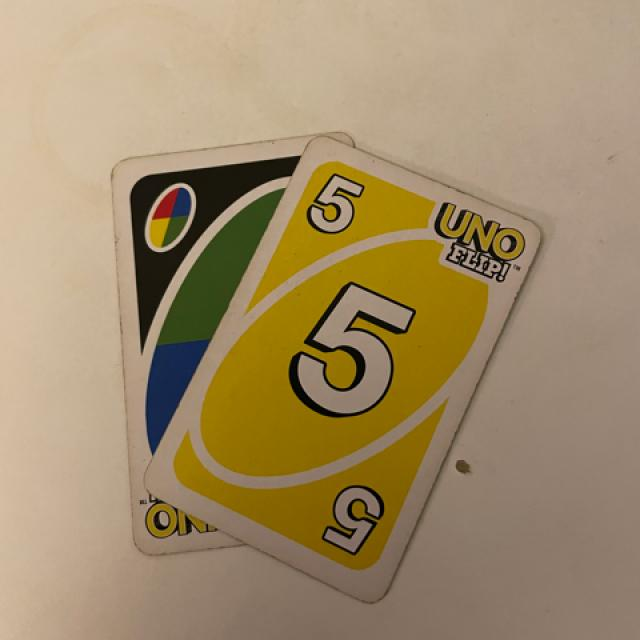lcolor-40: (128, 170, 198, 254)
lyellow-5: (303, 168, 372, 250)
